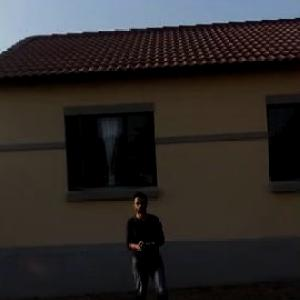follow: (123, 187, 179, 299)
